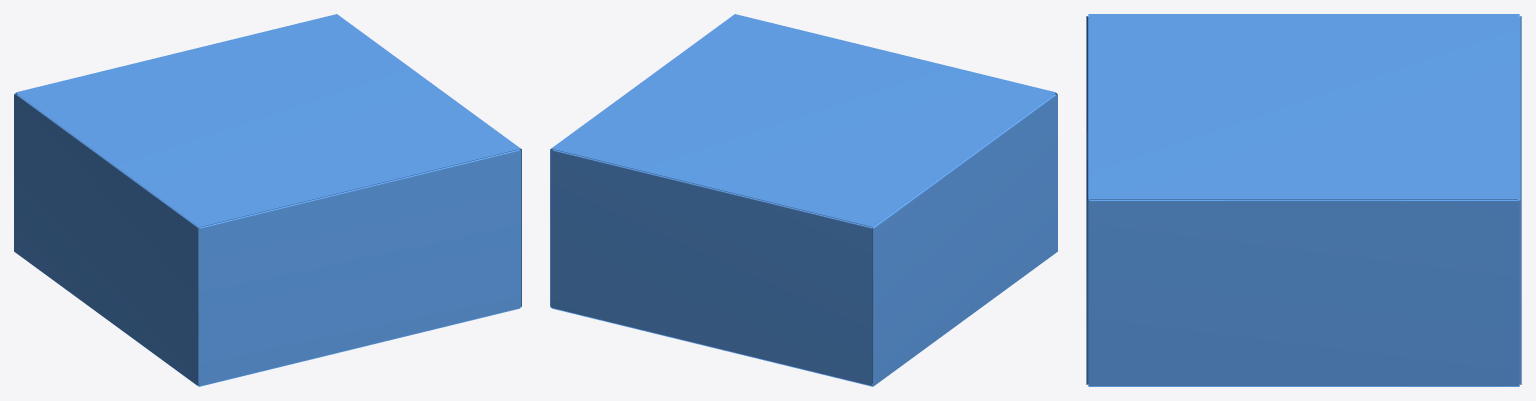
The model's file is PLF0110060.fbx.
3 renders of one model, left to right at view 1: azimuth 30°, elevation 25°; view 2: azimuth 150°, elevation 25°; view 3: azimuth 270°, elevation 25°, orthographic. The views are drawn at different scales.
Visible parts, largest first — view 1: smPLF0110060; view 2: smPLF0110060; view 3: smPLF0110060.
Part boxes in pixels (x1,y1,x2,y2): smPLF0110060: (14,14,521,386); smPLF0110060: (550,14,1057,386); smPLF0110060: (1086,14,1521,386).
Bounding box in the file's own units: 239 × 113 × 236.
Materials: 1 (1 with a texture image).
